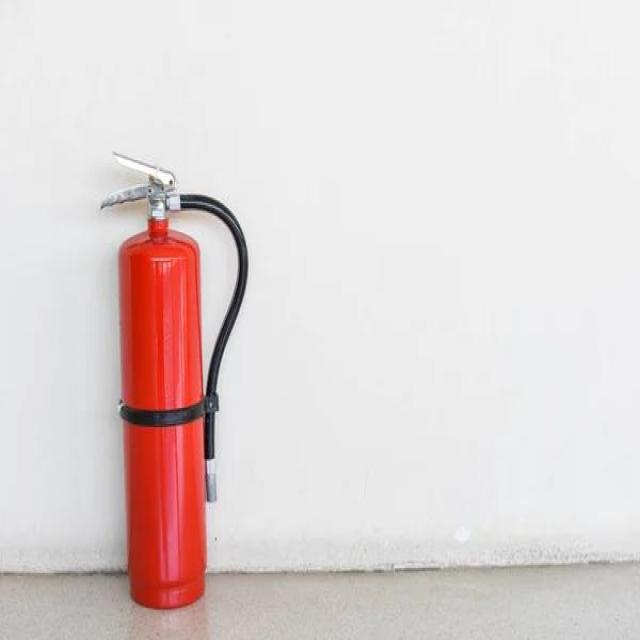fire_extinguisher: (97, 148, 249, 618)
